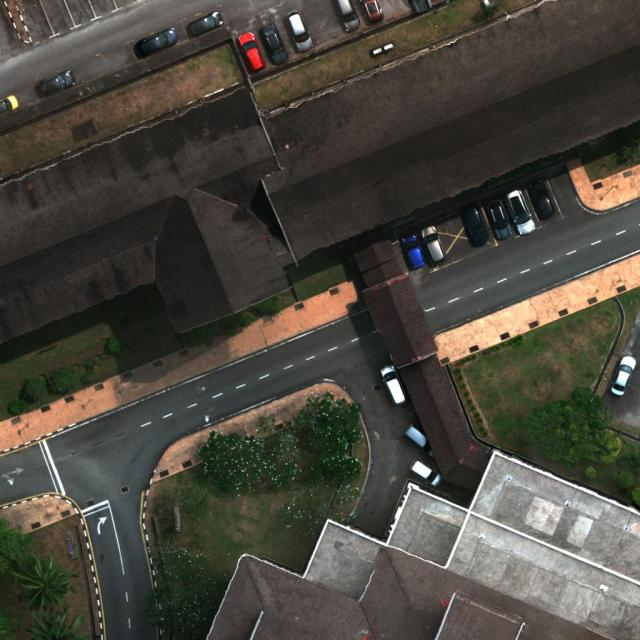Tree: (143, 529, 231, 640), (523, 386, 614, 469), (197, 427, 302, 494), (293, 391, 363, 486), (7, 549, 81, 613), (24, 603, 92, 640), (0, 516, 38, 582), (614, 124, 640, 164), (614, 440, 640, 479)
